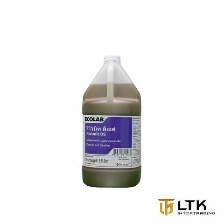cleaning_solution: (81, 53, 143, 190)
